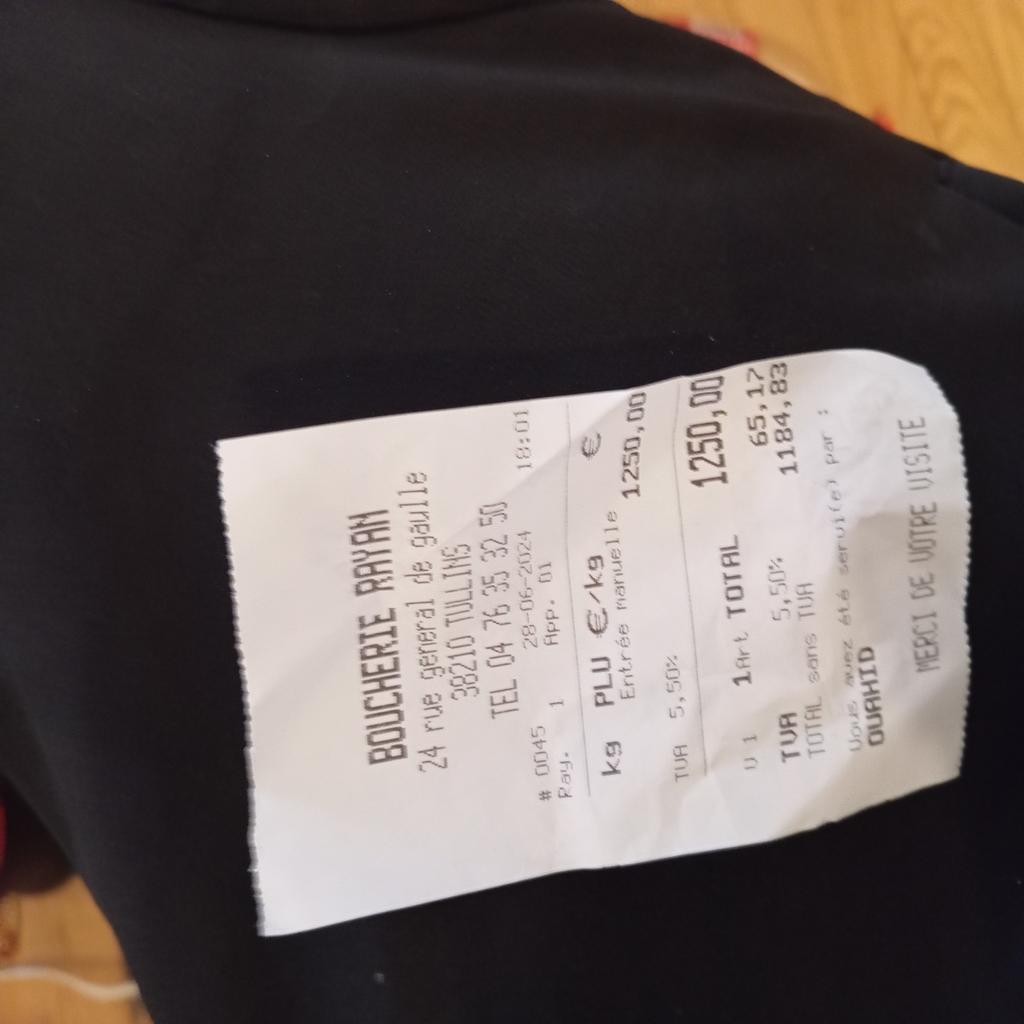recipt: (216, 348, 971, 946)
